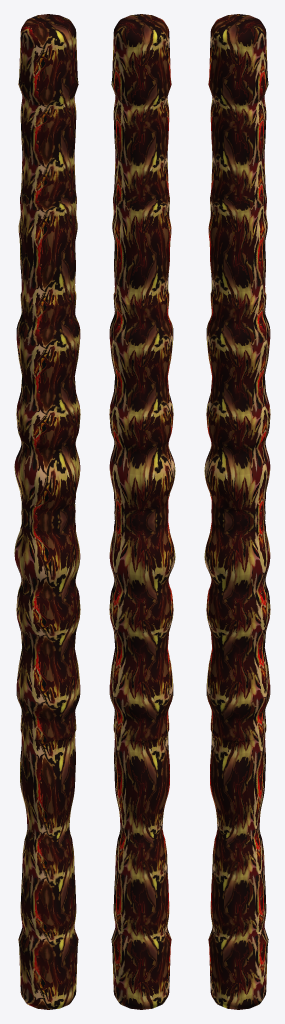
The model's file is SuperLavaFall.fbx.
The picture shows the model from 3 angles, left to right: view 1: azimuth 30°, elevation 25°; view 2: azimuth 210°, elevation 25°; view 3: azimuth 330°, elevation 25°; orthographic projection.
Visible parts, largest first — view 1: polySurface579; view 2: polySurface579; view 3: polySurface579.
Part boxes in pixels (x1,y1,x2,y2): polySurface579: [14, 14, 80, 1009]; polySurface579: [109, 14, 175, 1009]; polySurface579: [204, 14, 270, 1009].
Bounding box in the file's own units: 33.69 × 568 × 34.7.
